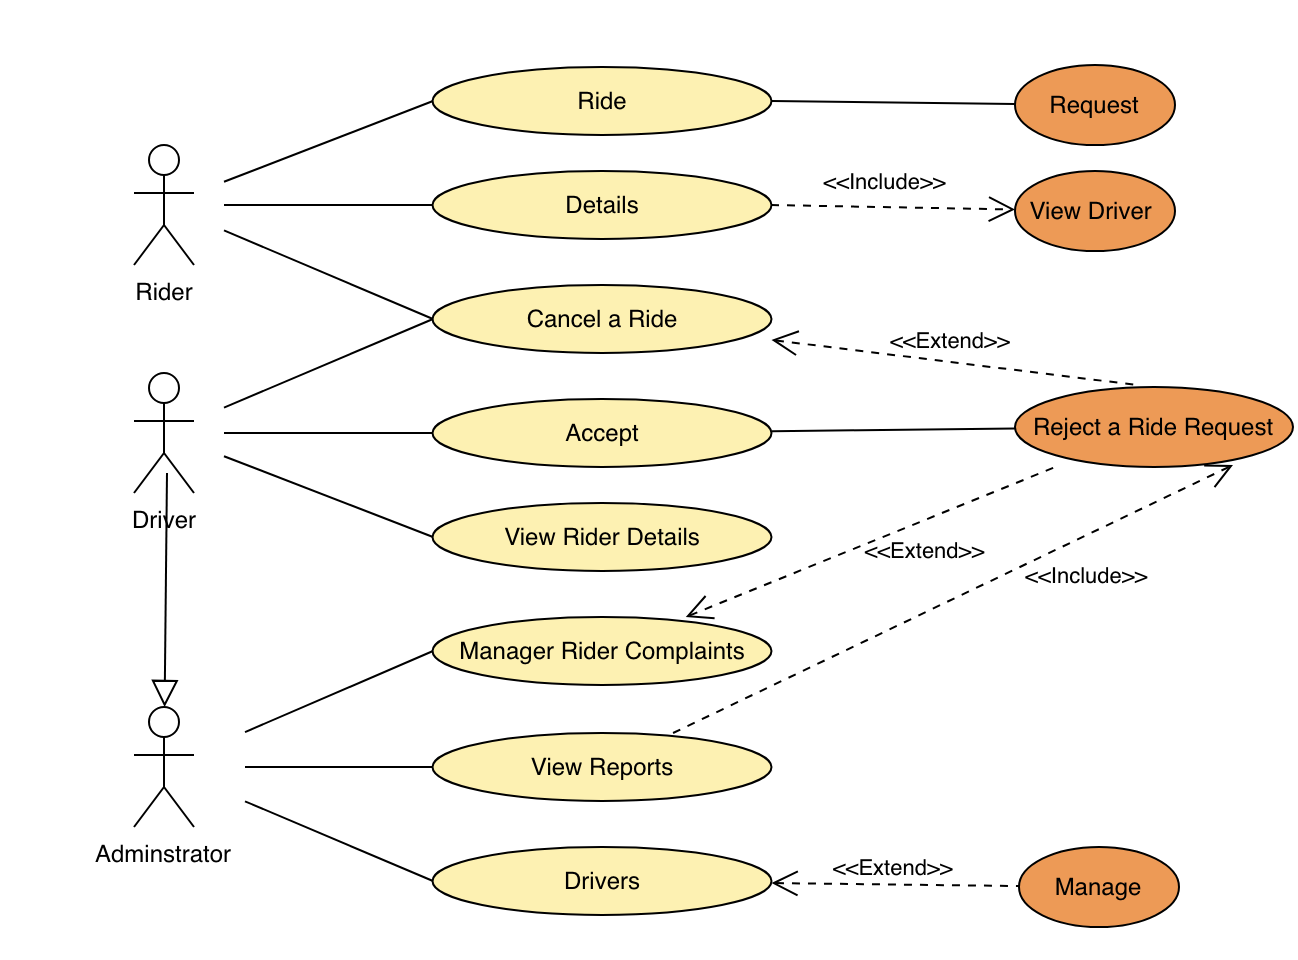actor: (127, 136, 203, 273), (130, 367, 205, 496), (130, 705, 204, 829)
association: (672, 462, 1236, 735), (689, 461, 1059, 622), (768, 327, 1135, 389), (223, 445, 430, 545), (219, 224, 434, 320), (218, 319, 431, 408), (222, 100, 430, 185), (242, 796, 431, 883), (242, 649, 432, 735), (773, 186, 1012, 227), (773, 410, 1014, 447), (776, 84, 1016, 118), (774, 866, 1018, 899), (245, 744, 431, 788), (223, 188, 433, 222), (224, 415, 430, 448)
generalization: (150, 473, 181, 706)
text: (452, 635, 748, 665), (1027, 411, 1279, 442), (496, 519, 707, 554), (513, 746, 692, 787), (89, 839, 243, 874), (522, 302, 683, 335), (557, 409, 662, 455), (1020, 193, 1162, 226), (818, 162, 954, 197), (553, 859, 663, 899), (886, 323, 1011, 355), (831, 848, 959, 879), (556, 185, 666, 221), (1049, 869, 1150, 908), (1020, 563, 1152, 592), (1043, 88, 1143, 123), (568, 76, 636, 125), (863, 538, 990, 565), (127, 506, 209, 536), (128, 275, 199, 309)
use_case: (430, 64, 775, 140), (429, 394, 774, 471), (429, 729, 776, 805), (430, 612, 775, 688), (429, 281, 775, 356), (434, 168, 771, 244), (429, 844, 774, 918), (430, 501, 774, 574), (1012, 384, 1294, 472), (1012, 63, 1178, 150), (1012, 167, 1177, 255), (1017, 844, 1181, 930)
